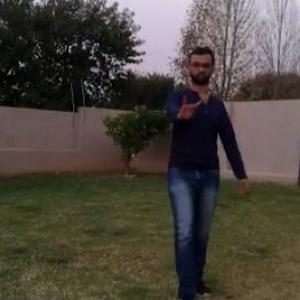takeoff-hand: (172, 90, 204, 126)
